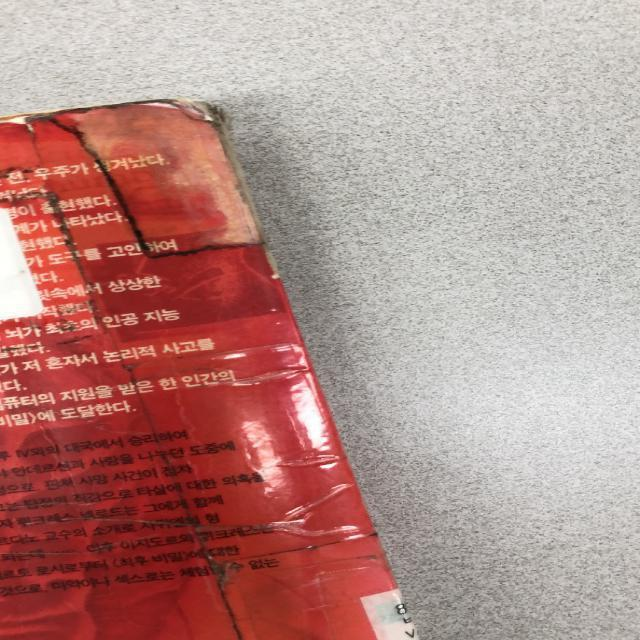Ripped: (358, 586, 422, 639), (158, 93, 236, 130), (0, 111, 46, 165)
Wornout: (43, 98, 157, 121), (267, 267, 288, 285)
